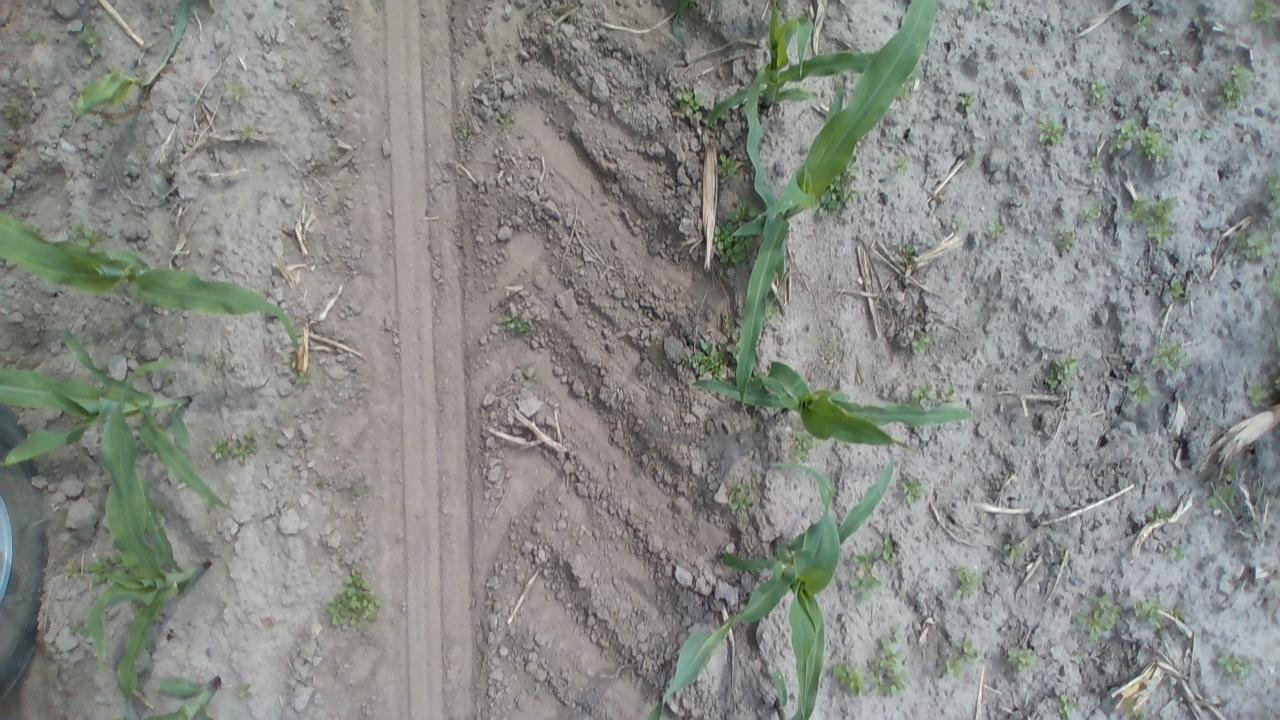Maize: (719, 0, 950, 407), (644, 452, 892, 720), (2, 210, 302, 362), (86, 372, 210, 718), (0, 325, 230, 507), (700, 0, 898, 201), (680, 357, 980, 447), (68, 10, 192, 124), (770, 612, 826, 720), (120, 672, 224, 718)
Weeds: (324, 568, 384, 633), (848, 536, 894, 601), (1126, 193, 1179, 246), (871, 634, 909, 698), (1080, 590, 1123, 644), (208, 428, 260, 468), (818, 173, 861, 214), (687, 334, 727, 378), (1216, 63, 1254, 109), (937, 644, 979, 681), (946, 636, 986, 674), (1136, 124, 1172, 166), (712, 226, 749, 264), (1044, 352, 1078, 393), (1150, 338, 1188, 374), (70, 219, 107, 255), (834, 660, 870, 696), (1132, 596, 1166, 629), (674, 85, 706, 120), (671, 1, 697, 44), (87, 554, 121, 586), (1236, 229, 1271, 260), (78, 24, 105, 62), (728, 478, 756, 514), (1034, 116, 1066, 147), (1108, 118, 1134, 156), (1126, 371, 1154, 406), (1216, 652, 1252, 679), (1207, 480, 1236, 512), (952, 566, 984, 595), (1003, 646, 1037, 673), (724, 196, 758, 222), (501, 312, 534, 338), (1246, 376, 1272, 408), (794, 430, 818, 463), (954, 88, 979, 118), (518, 360, 542, 391), (1001, 540, 1028, 567), (909, 379, 934, 408), (1086, 74, 1106, 110), (1260, 172, 1276, 216), (900, 478, 926, 505), (716, 152, 740, 180), (910, 327, 934, 354), (1146, 504, 1175, 526), (1057, 690, 1079, 718), (1081, 200, 1106, 224), (936, 382, 960, 406), (896, 243, 920, 267), (224, 78, 247, 103), (1248, 1, 1274, 23), (1162, 540, 1189, 561), (1166, 277, 1190, 300), (890, 154, 912, 178), (983, 219, 1009, 238), (24, 26, 51, 44), (1054, 226, 1076, 248), (1134, 12, 1154, 34), (1084, 156, 1102, 180), (71, 620, 92, 640), (286, 72, 307, 92), (722, 314, 738, 340), (498, 110, 518, 130), (234, 682, 254, 702), (293, 369, 314, 388), (964, 147, 983, 168), (1193, 126, 1215, 144), (970, 0, 994, 16), (64, 560, 83, 580), (896, 76, 914, 97), (1, 104, 21, 122), (949, 217, 970, 234), (769, 300, 784, 322), (236, 124, 254, 142), (456, 120, 474, 138), (1222, 464, 1238, 483), (1172, 607, 1189, 624), (1162, 98, 1180, 112), (1125, 708, 1146, 720), (1266, 274, 1276, 298), (1059, 547, 1072, 562), (282, 356, 298, 368), (211, 354, 225, 366), (1074, 650, 1085, 660), (164, 374, 175, 384), (314, 476, 324, 486)
